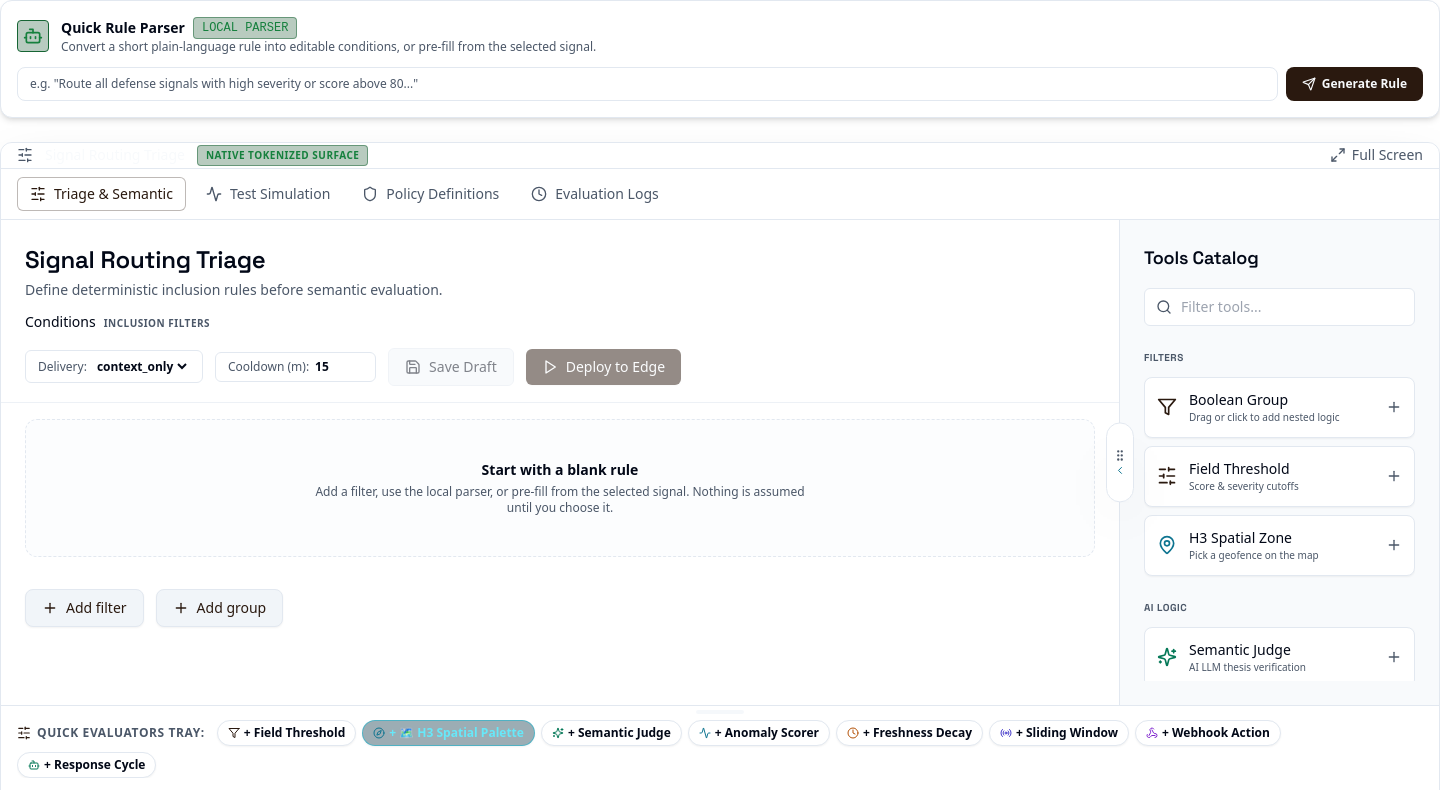
Test: RuleBuilder Component › switches to Test Simulation tab and renders simulation controls
Click the button "Test Simulation" at [268, 194], box [194,178,342,210]
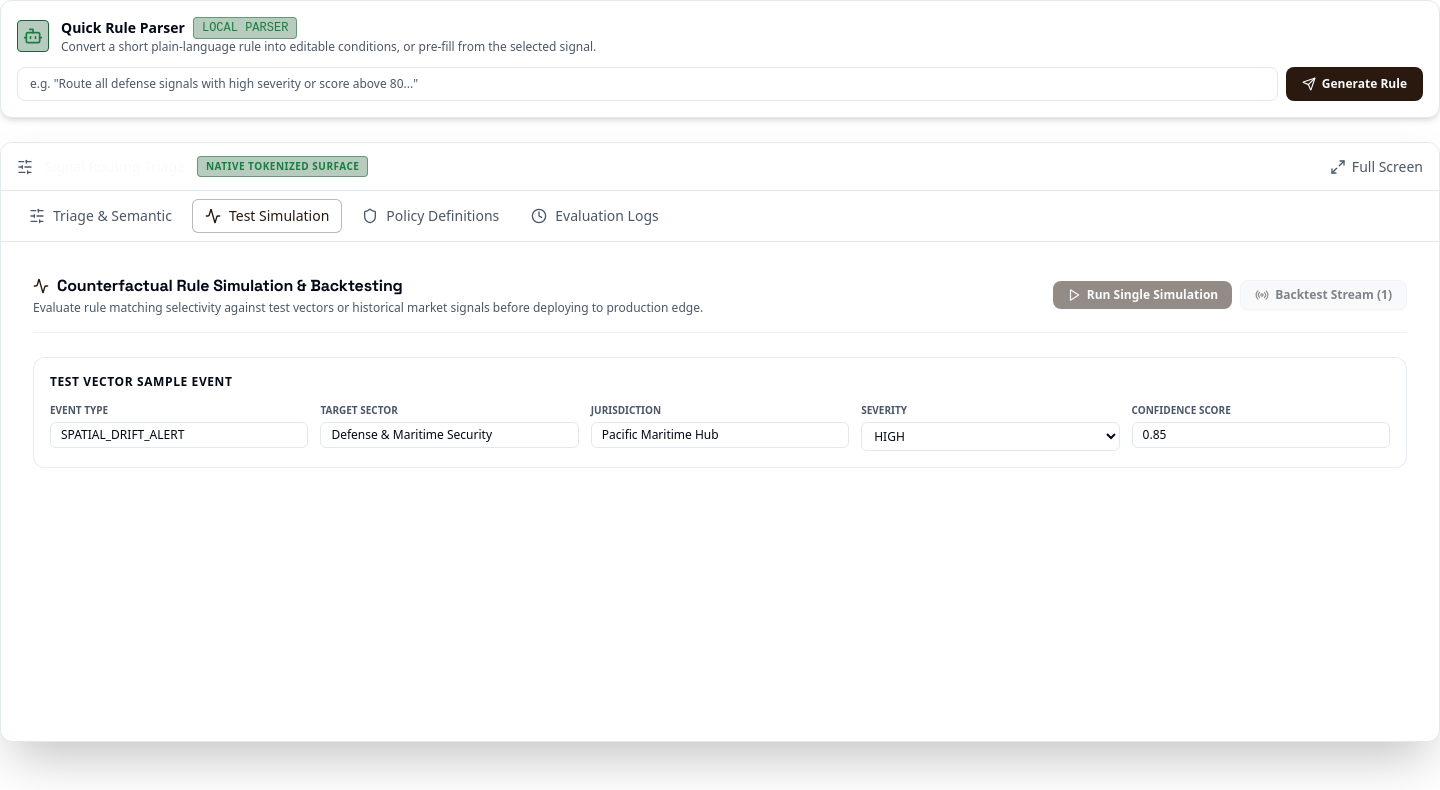
Check: the heading "Counterfactual Rule Simulation & Backtesting" is shown, box [33,275,403,296]
Check: the button with test id "btn-run-simulation" is shown, box [1053,281,1232,309]
Check: the button with test id "btn-run-backtest" is shown, box [1240,280,1407,310]
